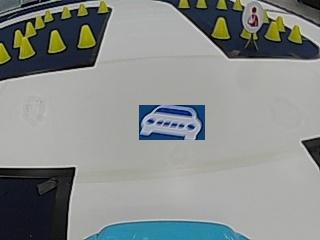cone: (77, 25, 96, 48), (211, 17, 230, 39), (48, 30, 66, 53), (18, 35, 35, 59), (266, 21, 280, 40), (289, 24, 302, 43), (0, 41, 10, 63), (96, 1, 109, 14), (25, 21, 36, 36), (77, 3, 88, 16), (34, 15, 45, 28), (60, 6, 71, 19), (177, 0, 190, 9), (216, 0, 227, 10), (44, 9, 53, 21), (232, 0, 242, 10), (196, 0, 207, 9)
patient: (243, 3, 264, 29)
